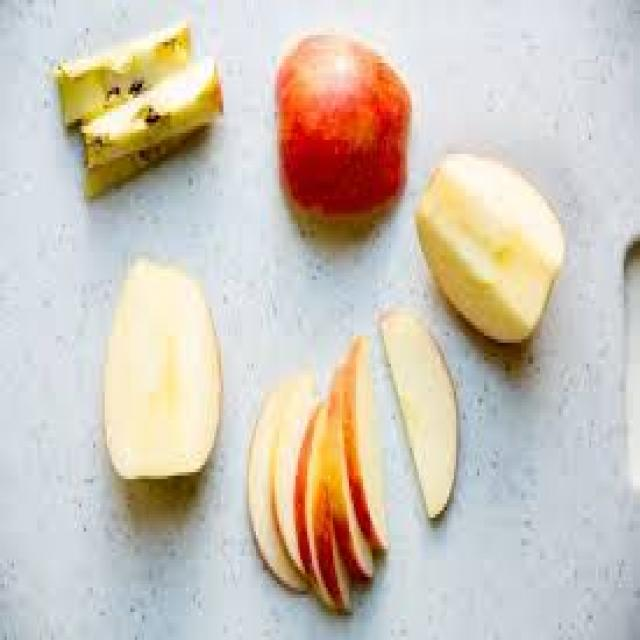Apple: (417, 152, 566, 346), (103, 254, 221, 485), (276, 31, 411, 222), (383, 311, 457, 518), (247, 378, 316, 593), (74, 70, 227, 153), (53, 24, 194, 110), (346, 335, 396, 553), (330, 360, 372, 588), (296, 397, 329, 598), (275, 398, 308, 555), (320, 421, 344, 608), (81, 152, 175, 195)
